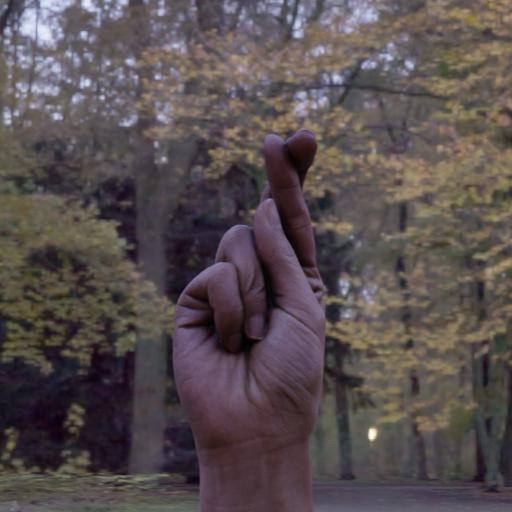R: (152, 103, 348, 450)
